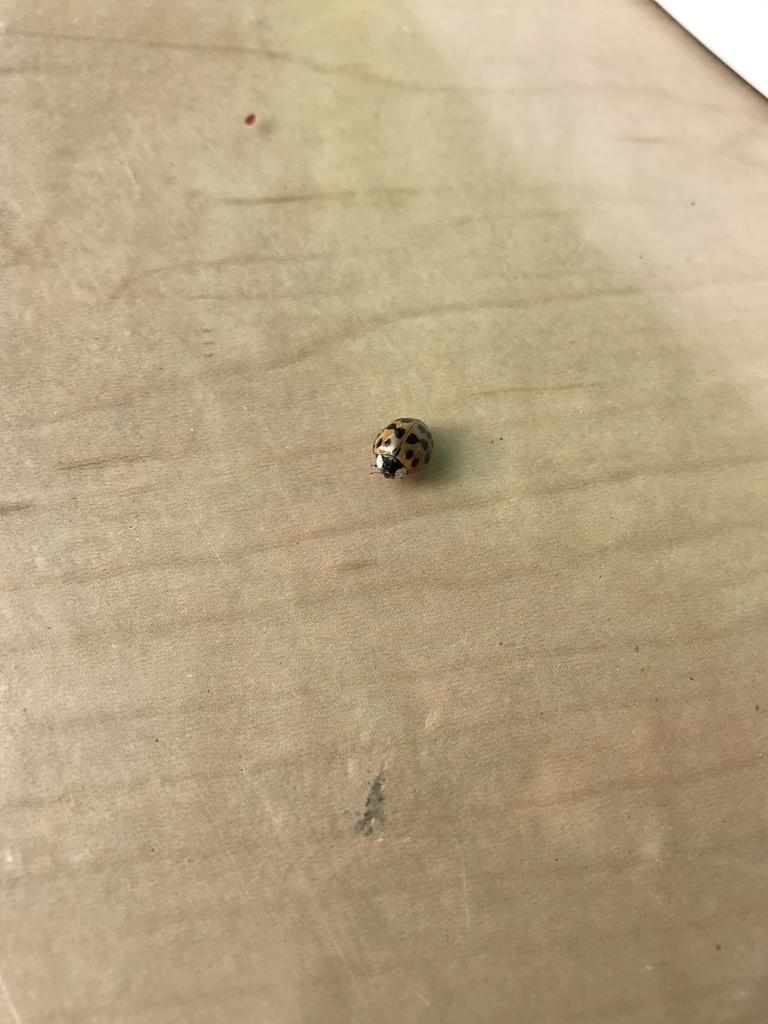ladybug: (368, 417, 436, 483)
